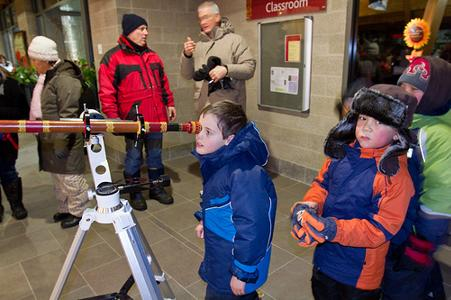person: (196, 101, 279, 300)
